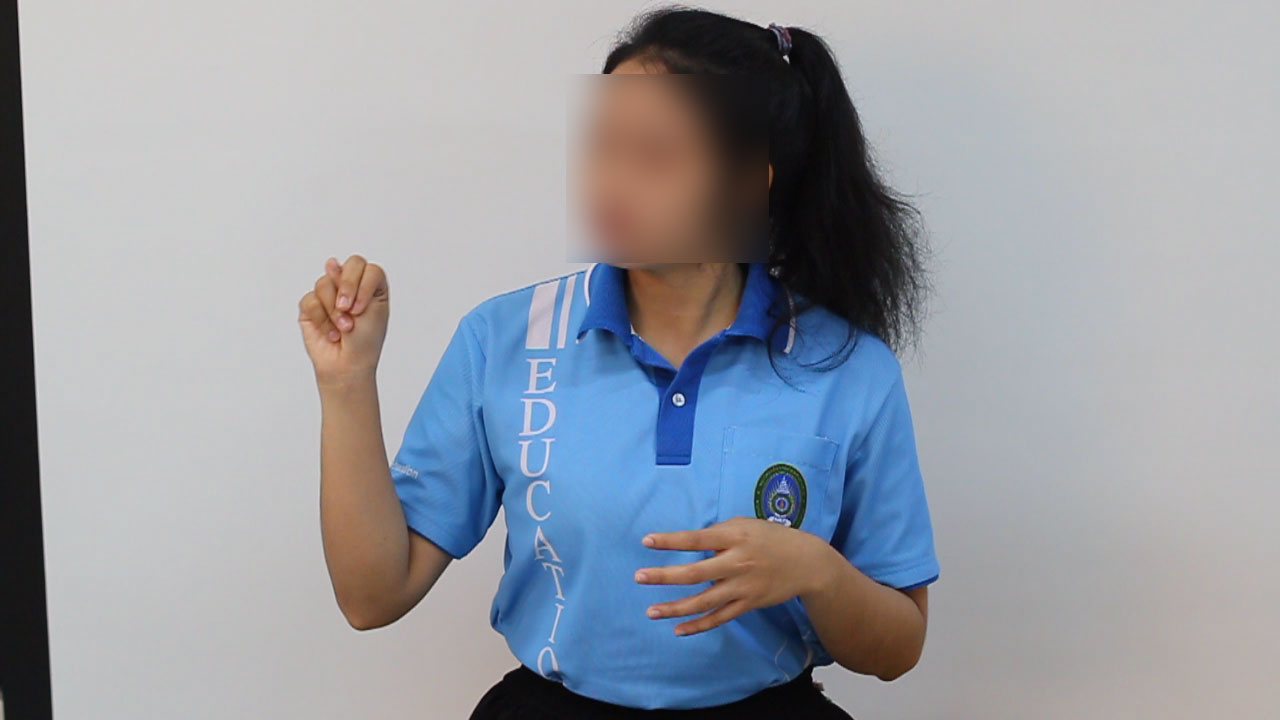nor: (290, 245, 399, 402)
